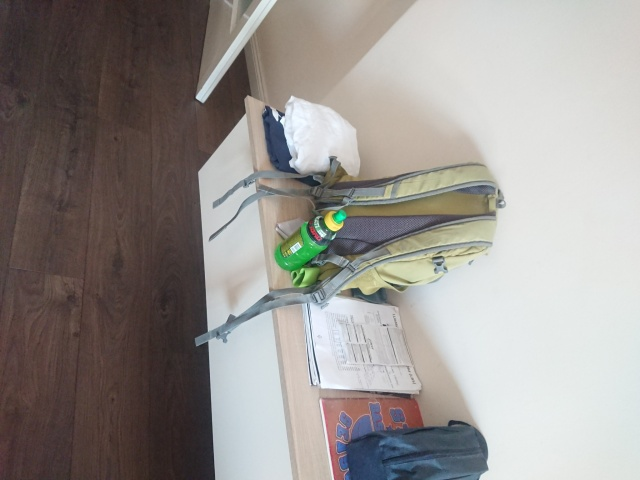Vindi Iso Sport Lemon-Grapefruit 500mL: (271, 207, 349, 273)
